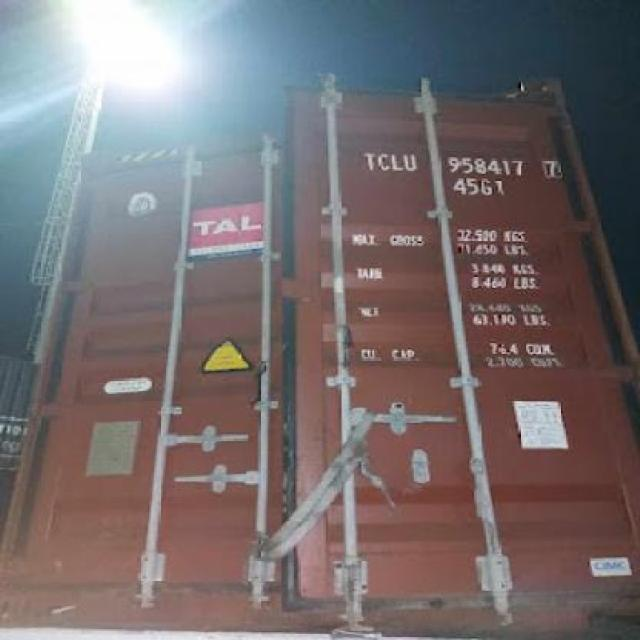ISO: (452, 174, 506, 197)
container_number: (368, 150, 554, 176)
